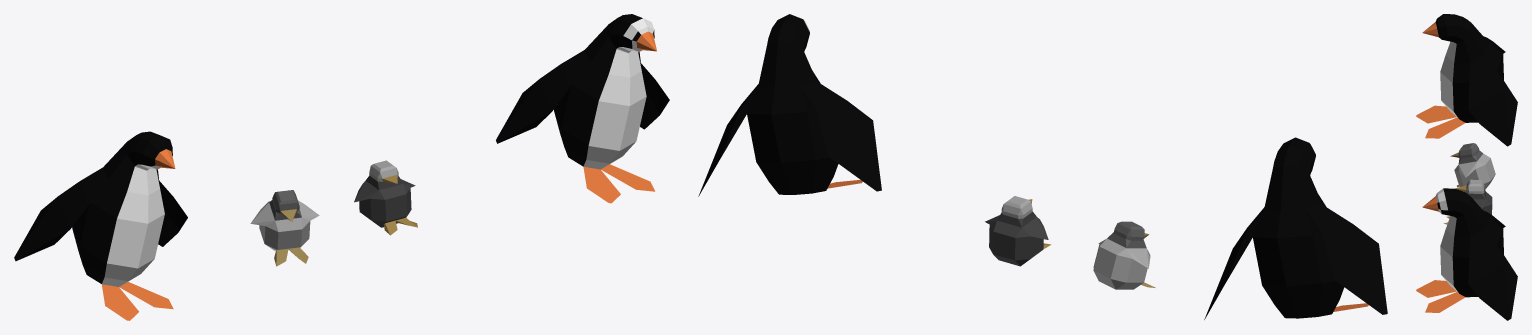
Rendered from penguins.fbx.
3 renders of one model, left to right at view 1: azimuth 30°, elevation 25°; view 2: azimuth 150°, elevation 25°; view 3: azimuth 270°, elevation 25°, orthographic. The views are drawn at different scales.
Parts seen in each view (by area): view 1: Cylinder.011, Cylinder.012, Cube, Cube.001; view 2: Cylinder.012, Cylinder.011, Cube, Cube.001; view 3: Cylinder.011, Cylinder.012, Cube, Cube.001.
Boxes of the visible parts, box(x1,y1,x2,y2) form: Cylinder.011: box(496, 14, 669, 203); Cylinder.012: box(14, 131, 187, 320); Cube: box(250, 190, 319, 266); Cube.001: box(354, 160, 417, 235); Cylinder.012: box(1204, 137, 1387, 319); Cylinder.011: box(698, 14, 881, 196); Cube: box(1093, 221, 1155, 289); Cube.001: box(985, 196, 1051, 266); Cylinder.011: box(1416, 188, 1517, 320); Cylinder.012: box(1416, 14, 1517, 146); Cube: box(1450, 143, 1495, 189); Cube.001: box(1443, 179, 1492, 224).
Size of the model in its own units: 1084 by 270 by 201.
